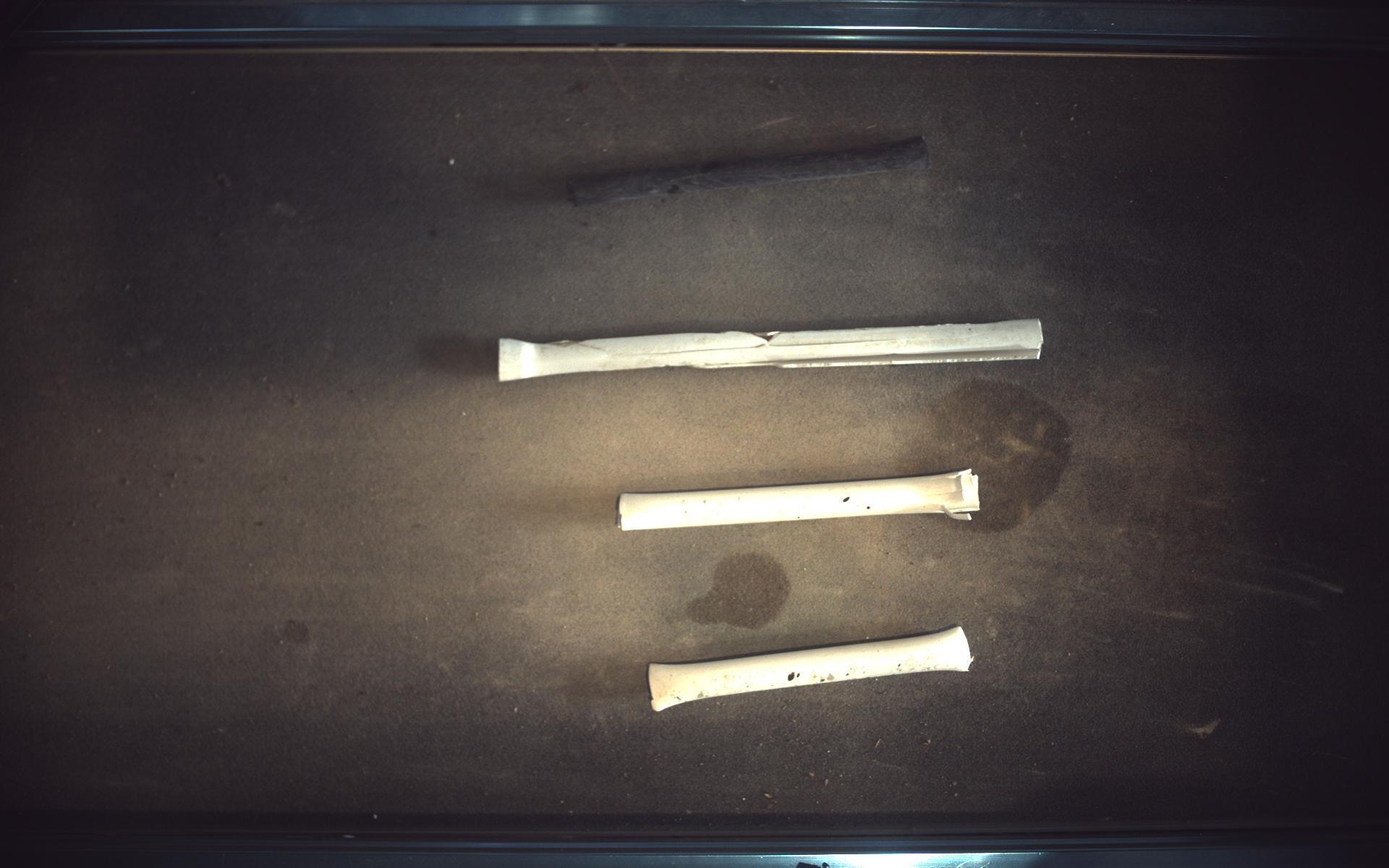pipes: (498, 318, 1045, 381), (649, 627, 975, 712), (568, 135, 931, 205), (619, 469, 982, 532)
